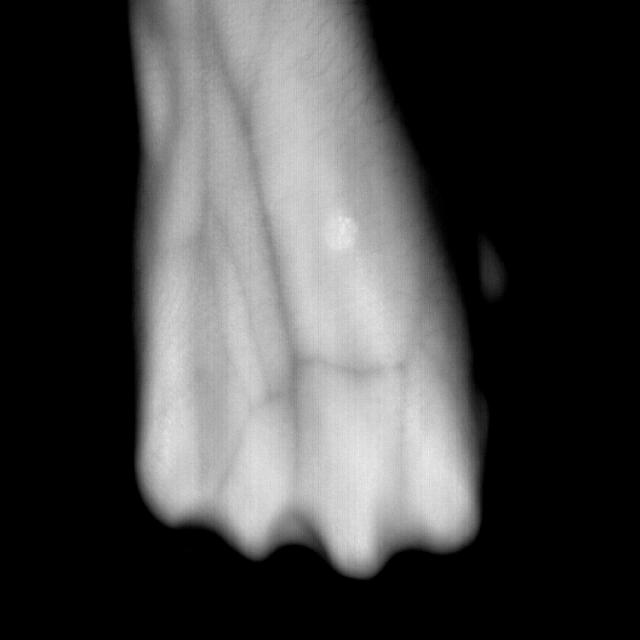Vein: (199, 18, 302, 418)
